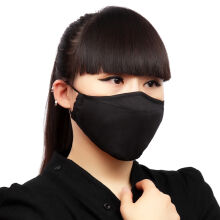face_mask: (76, 44, 164, 151)
